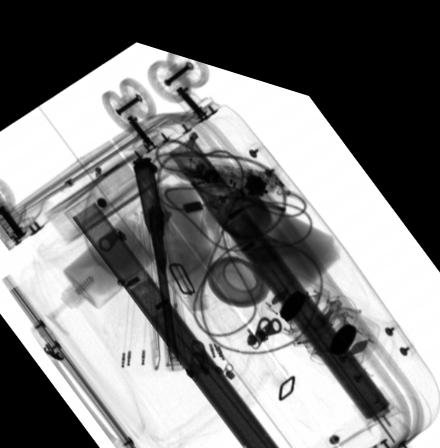Bullet: (131, 147, 166, 266)
